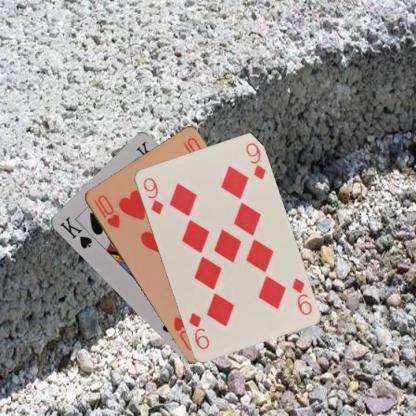10h: (91, 192, 121, 229)
9d: (140, 175, 165, 216), (289, 275, 313, 317)
Ks: (57, 214, 93, 250)
